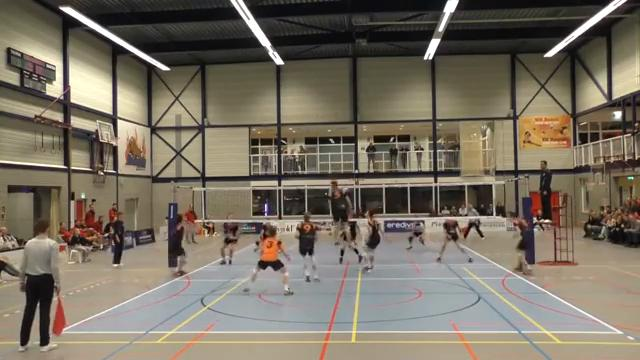attacco: (324, 177, 355, 246)
